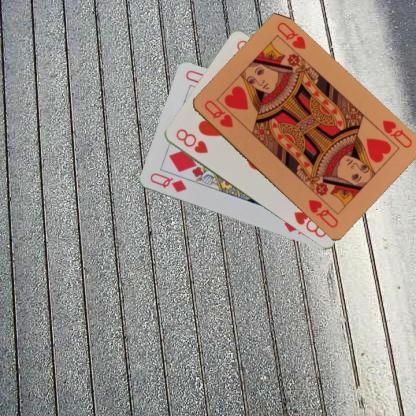8h: (173, 126, 209, 155)
Qd: (147, 170, 188, 193)
Qh: (379, 117, 413, 150), (201, 96, 234, 129)
